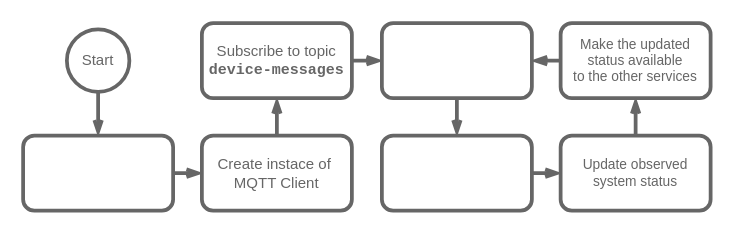
The diagram is 734 pixels wide and 234 high, and some of its shapes have lost their labels. The box of each missing label's shape, as (x1, y1, x2, y2) in pixels:
Extract Contents: (379, 133, 533, 212)
Request state from Bran instace: (21, 133, 174, 212)
Wait for message: (379, 21, 533, 99)
